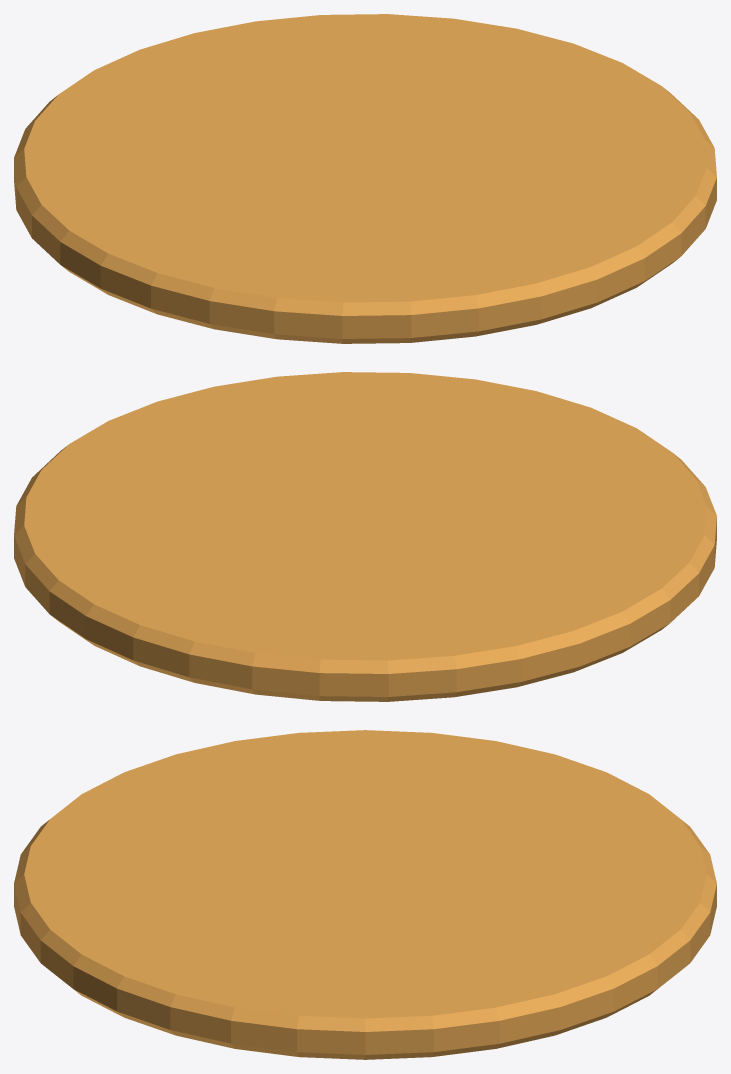
The model's file is coin.fbx.
The picture shows the model from 3 angles, top to bottom: view 1: azimuth 30°, elevation 25°; view 2: azimuth 150°, elevation 25°; view 3: azimuth 270°, elevation 25°; orthographic projection.
Parts seen in each view (by area): view 1: 柱体; view 2: 柱体; view 3: 柱体.
Boxes of the visible parts, <box> form: 柱体: <box>14,14,716,343</box>; 柱体: <box>14,372,716,701</box>; 柱体: <box>14,730,716,1059</box>.
Size of the model in its own units: 200 by 12.98 by 200.
